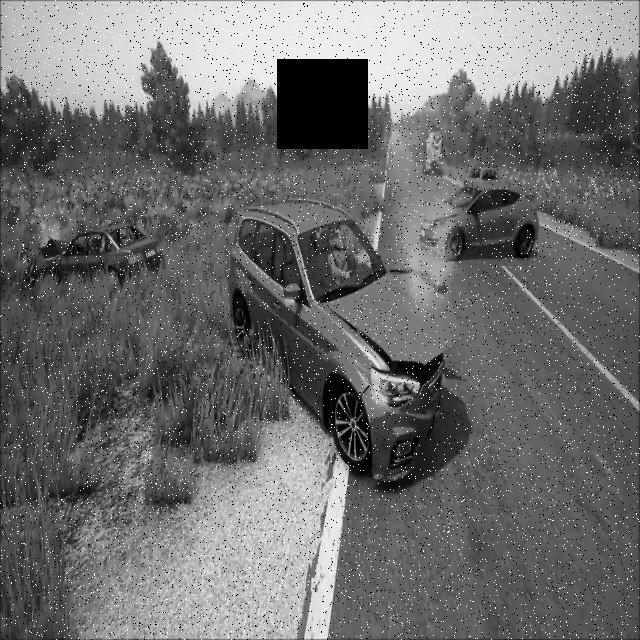vehicle: (188, 190, 472, 512)
